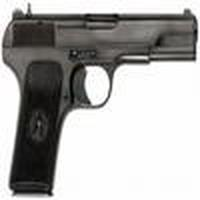gun: (6, 10, 193, 194)
